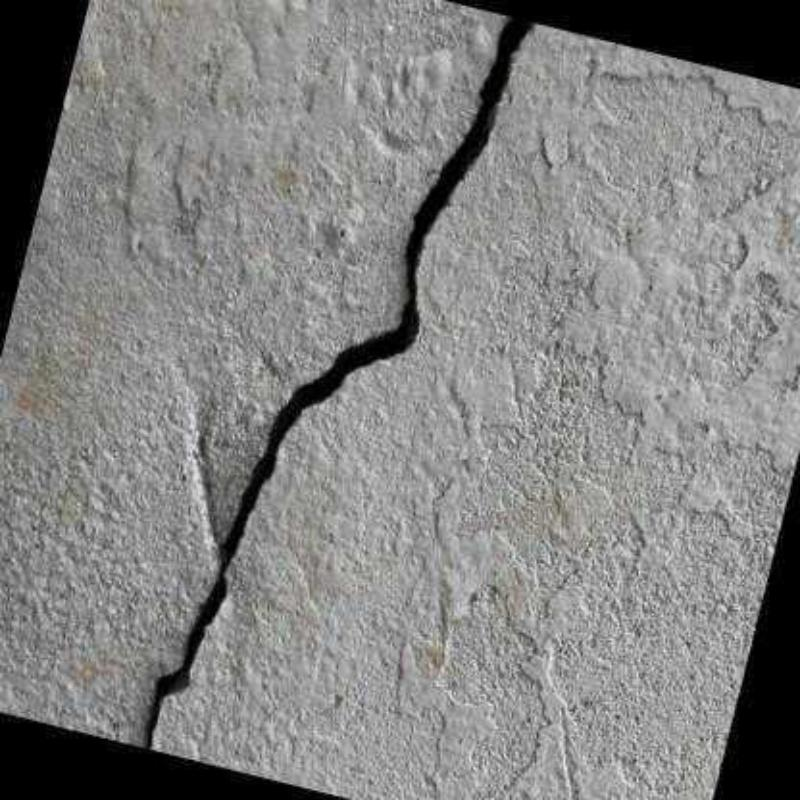pothole: (143, 14, 533, 747)
